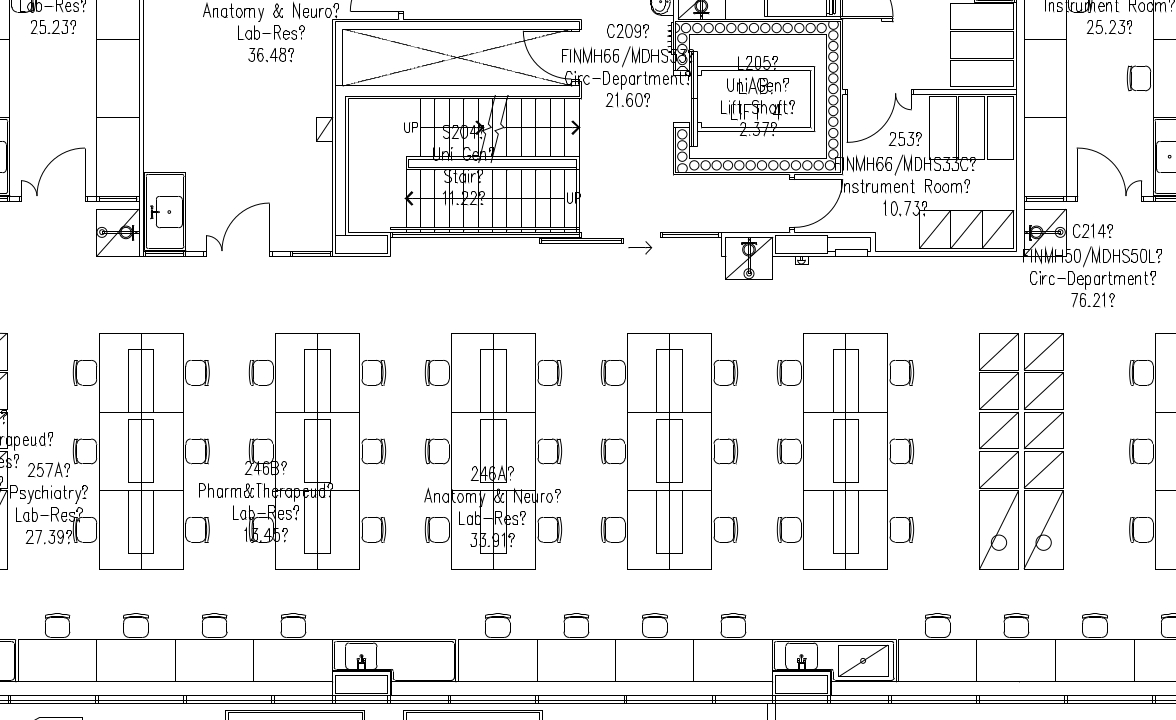door: (222, 189, 275, 262), (37, 136, 90, 209), (519, 31, 583, 84), (845, 86, 896, 145), (1075, 147, 1126, 206), (785, 177, 841, 229), (895, 82, 917, 112), (1124, 176, 1146, 206)
